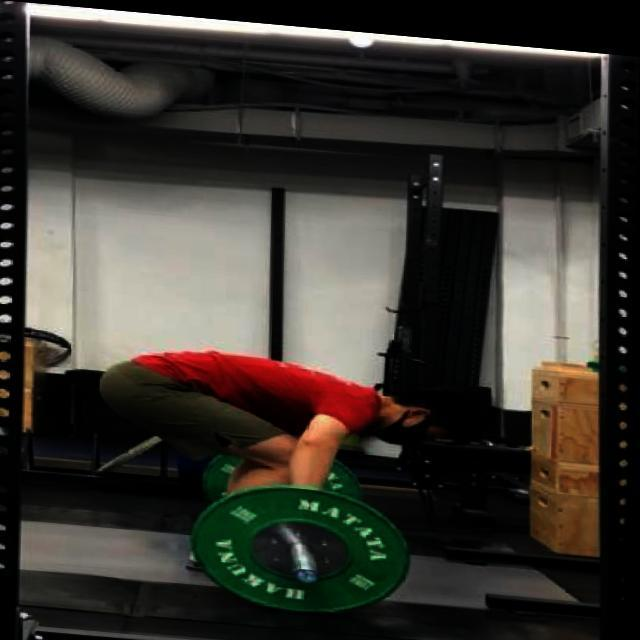barbell: (193, 469, 424, 629)
